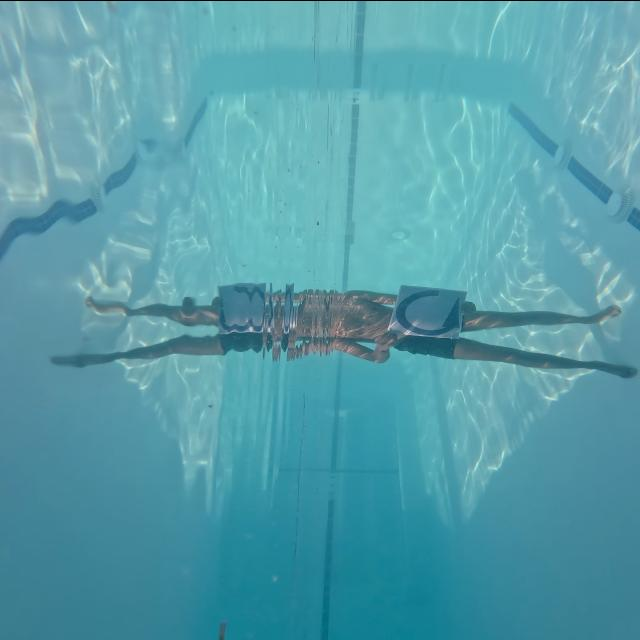blue_side: (376, 280, 485, 342)
